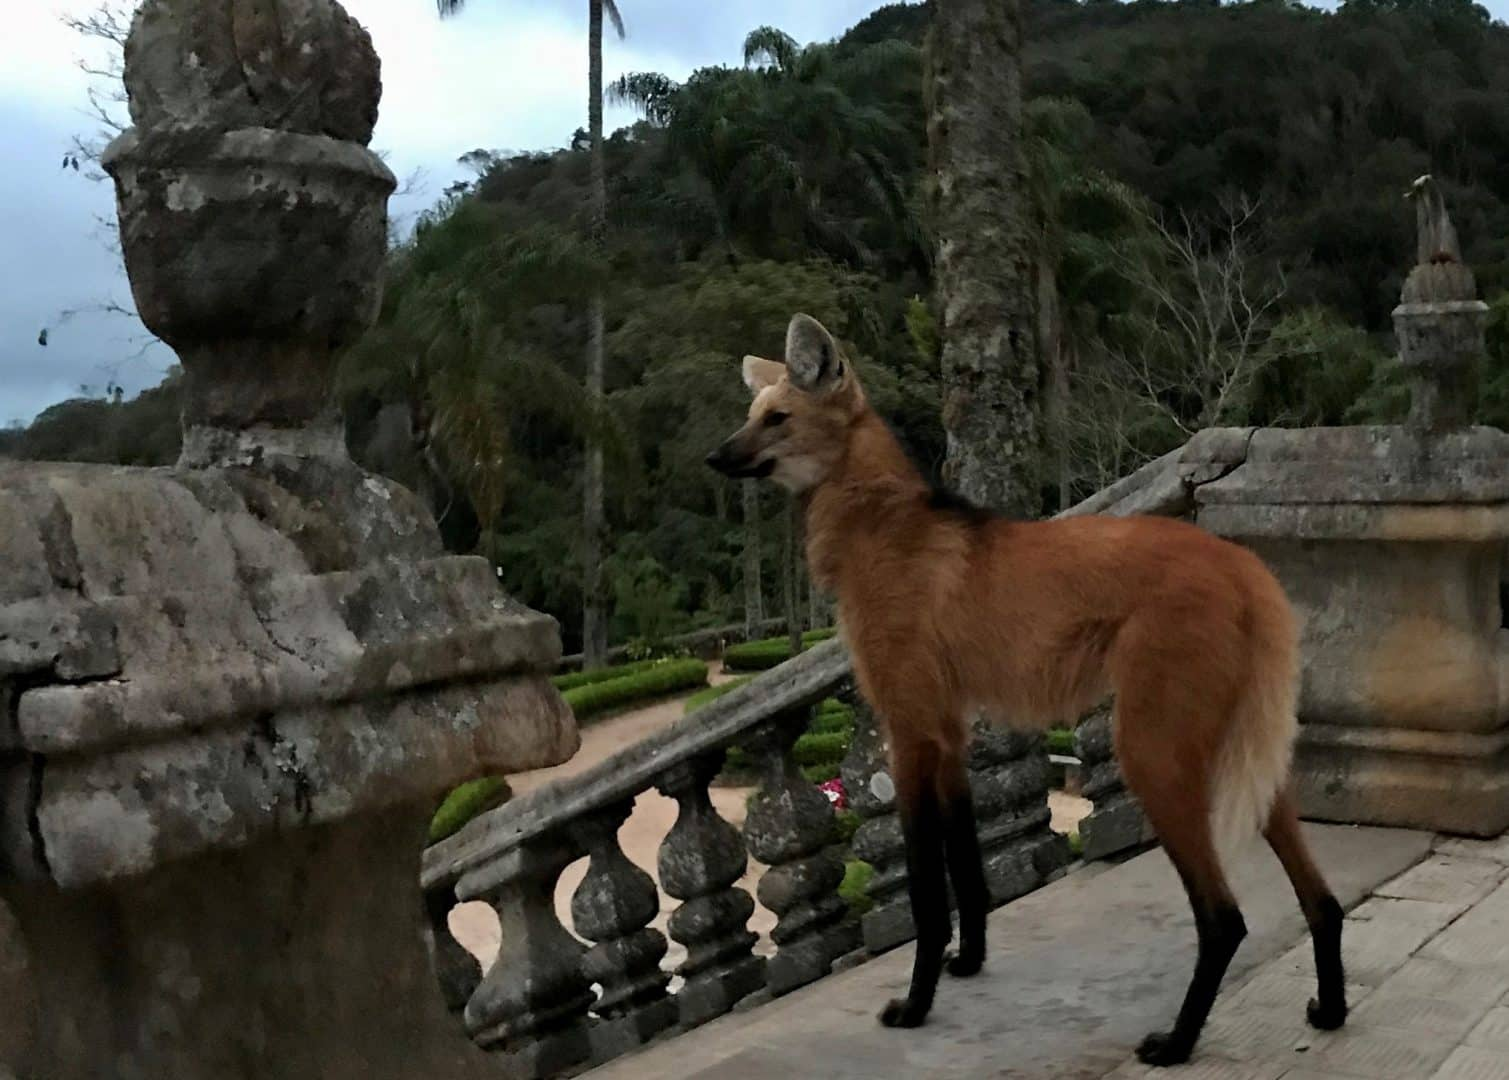LoboGuara: (692, 302, 1369, 1076)
